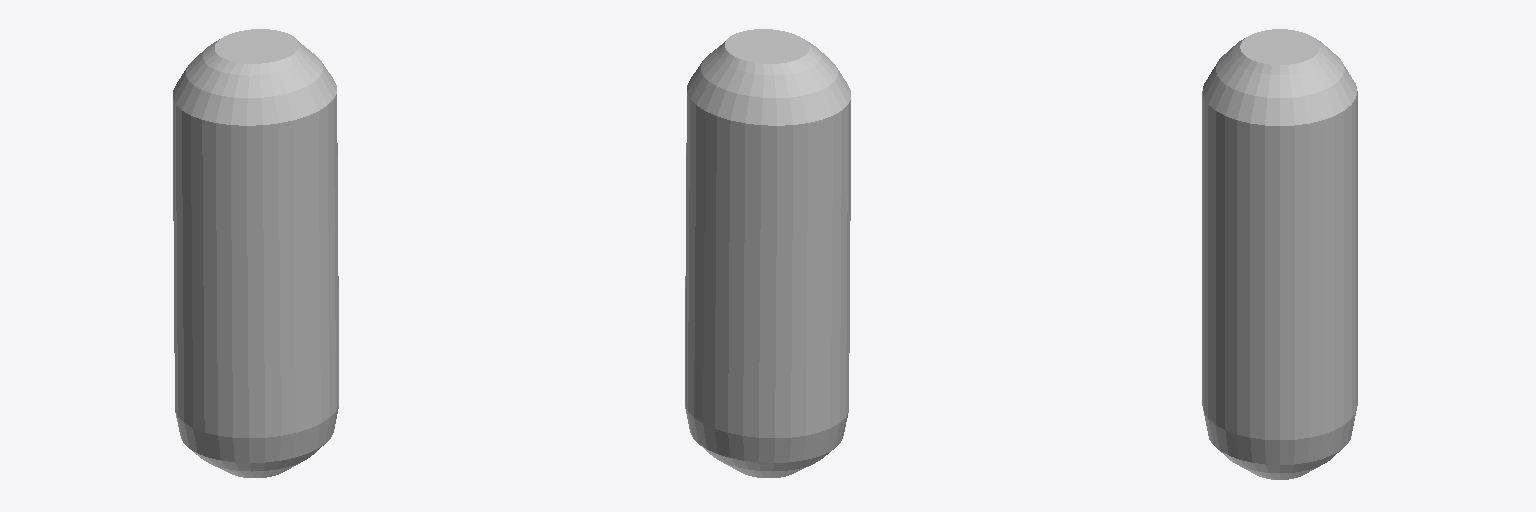
Rendered from antebrazo.obj.
3 views of the same model, side by side, from view 1: azimuth 30°, elevation 25°; view 2: azimuth 150°, elevation 25°; view 3: azimuth 270°, elevation 25° (orthographic).
Parts seen in each view (by area): view 1: Círculo.009_Círculo.014; view 2: Círculo.009_Círculo.014; view 3: Círculo.009_Círculo.014.
Boxes of the visible parts, <box> form: Círculo.009_Círculo.014: <box>173,29,338,477</box>; Círculo.009_Círculo.014: <box>685,29,850,477</box>; Círculo.009_Círculo.014: <box>1202,29,1357,479</box>.
Bounding box in the file's own units: 1.41 × 3.81 × 1.28.